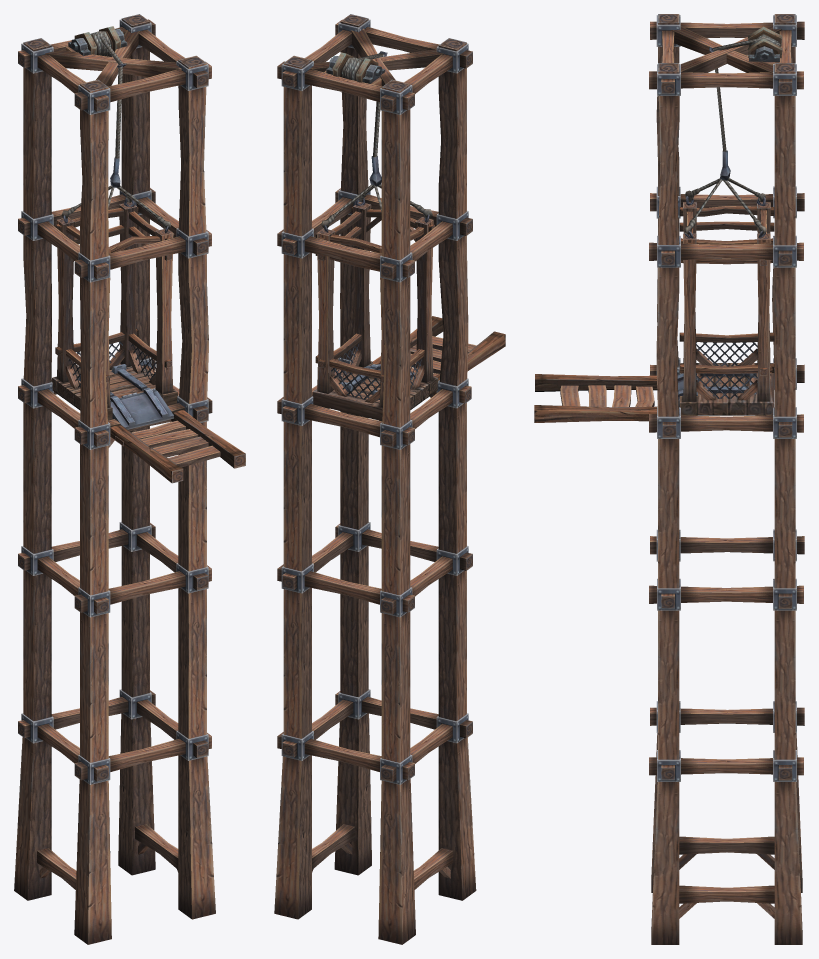
The model's file is mine_exit_01.fbx.
The picture shows the model from 3 angles, left to right: view 1: azimuth 30°, elevation 25°; view 2: azimuth 150°, elevation 25°; view 3: azimuth 270°, elevation 25°; orthographic projection. The views are drawn at different scales.
Visible parts, largest first — view 1: mine_exit_01-0; view 2: mine_exit_01-0; view 3: mine_exit_01-0.
Boxes of the visible parts, x1,y1,x2,y2 form: mine_exit_01-0: [14, 14, 245, 944]; mine_exit_01-0: [274, 14, 505, 944]; mine_exit_01-0: [534, 14, 804, 944].
Size of the model in its own units: 4.53 by 28.22 by 7.86.
